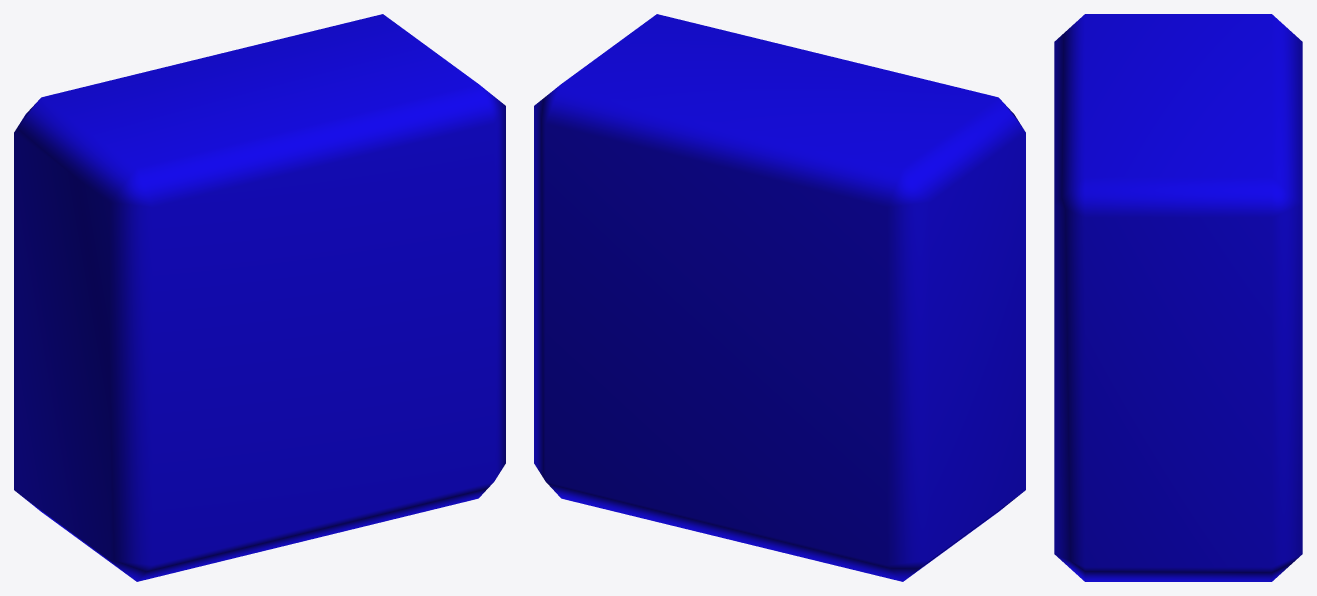
The model's file is Item_Square.fbx.
3 views of the same model, side by side, from view 1: azimuth 30°, elevation 25°; view 2: azimuth 150°, elevation 25°; view 3: azimuth 270°, elevation 25° (orthographic). The views are drawn at different scales.
Visible parts, largest first — view 1: Item_Square; view 2: Item_Square; view 3: Item_Square.
Boxes of the visible parts, x1=… form: Item_Square: x1=14, y1=14, x2=505, y2=581; Item_Square: x1=534, y1=14, x2=1025, y2=581; Item_Square: x1=1054, y1=14, x2=1302, y2=581.
Bounding box in the file's own units: 58.29 × 58.29 × 32.39.
